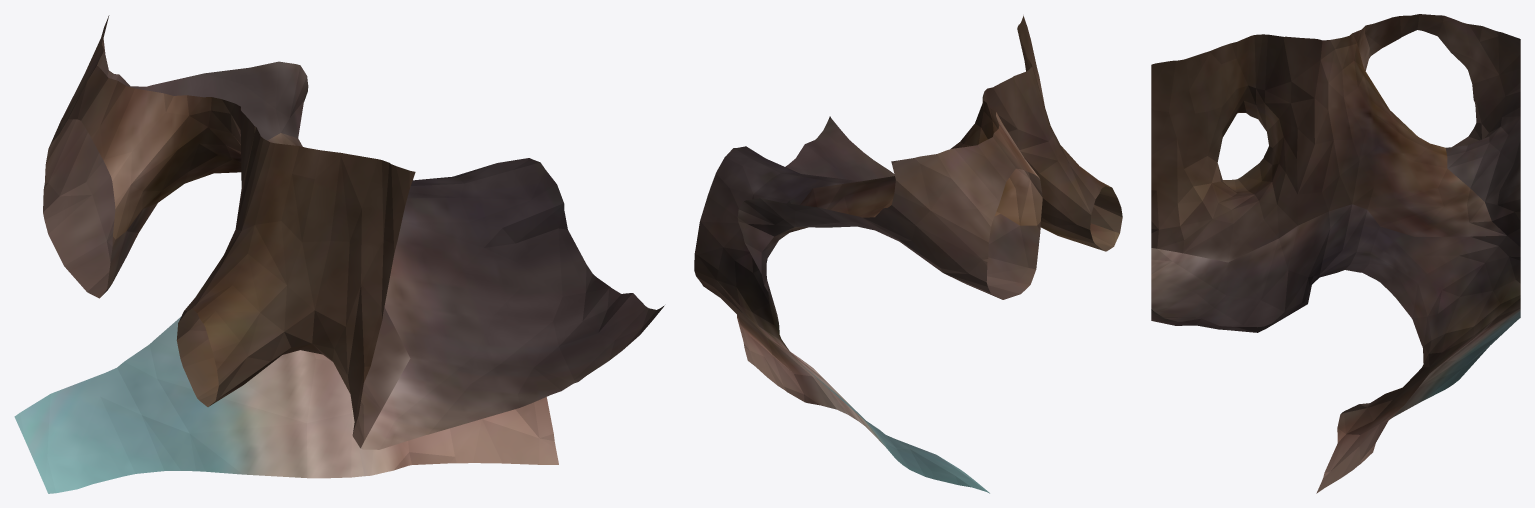
The picture shows the model from 3 angles, left to right: view 1: azimuth 30°, elevation 25°; view 2: azimuth 150°, elevation 25°; view 3: azimuth 270°, elevation 25°; orthographic projection. The views are drawn at different scales.
Parts seen in each view (by area): view 1: 091_W_Aya_100K_01; view 2: 091_W_Aya_100K_01; view 3: 091_W_Aya_100K_01.
Boxes of the visible parts, bbox=[...] form: 091_W_Aya_100K_01: bbox=[14, 15, 664, 493]; 091_W_Aya_100K_01: bbox=[694, 15, 1122, 493]; 091_W_Aya_100K_01: bbox=[1151, 14, 1520, 493].
Bounding box in the file's own units: 42.87 × 42.87 × 42.87.
1 material, 1 textured.
